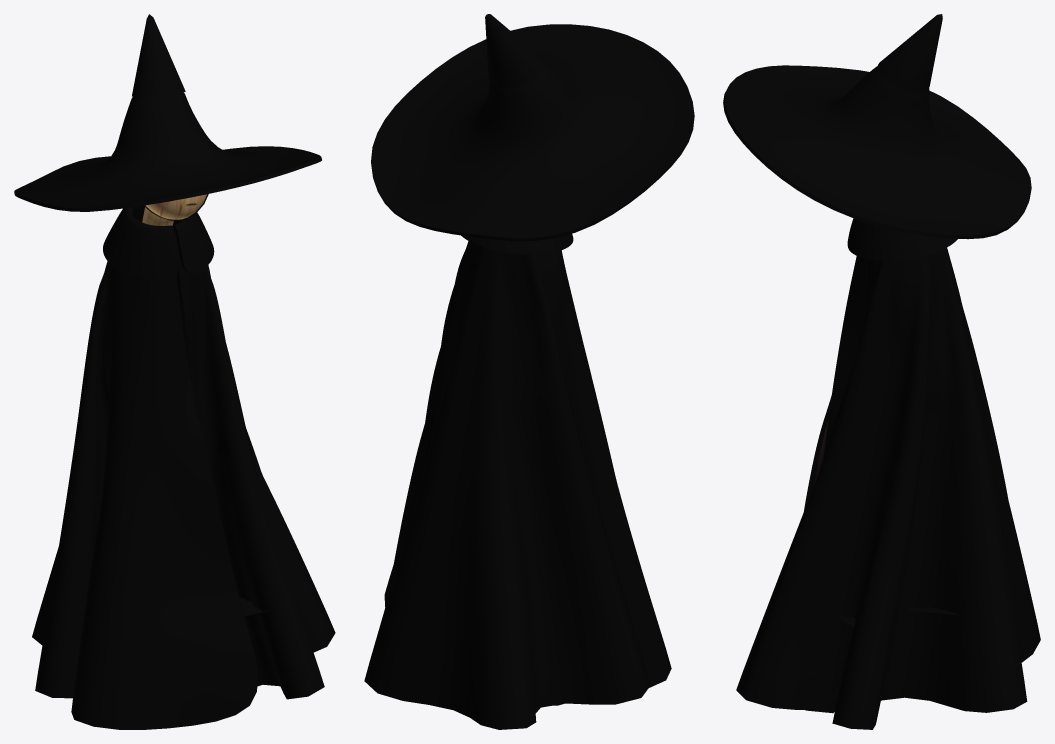
Rendered from magician.fbx.
3 views of the same model, side by side, from view 1: azimuth 30°, elevation 25°; view 2: azimuth 150°, elevation 25°; view 3: azimuth 270°, elevation 25° (orthographic). The views are drawn at different scales.
Visible parts, largest first — view 1: Mag.005, Mag.003; view 2: Mag.005; view 3: Mag.005, Mag_01.001.
Part boxes in pixels (x1,y1,x2,y2): Mag.005: [14, 14, 335, 729]; Mag.003: [142, 194, 206, 225]; Mag.005: [364, 14, 694, 729]; Mag.005: [723, 14, 1040, 729]; Mag_01.001: [814, 421, 959, 627].
Size of the model in its own units: 92.24 by 199 by 85.18.
